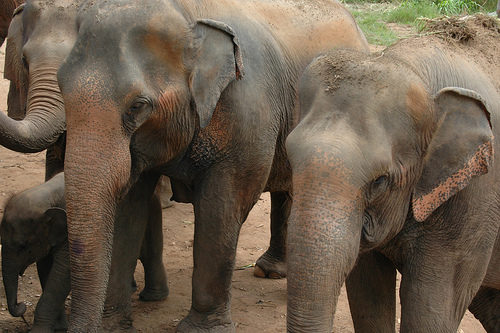elephant: (53, 1, 383, 331), (284, 13, 496, 333), (1, 1, 213, 304), (4, 169, 180, 330)
